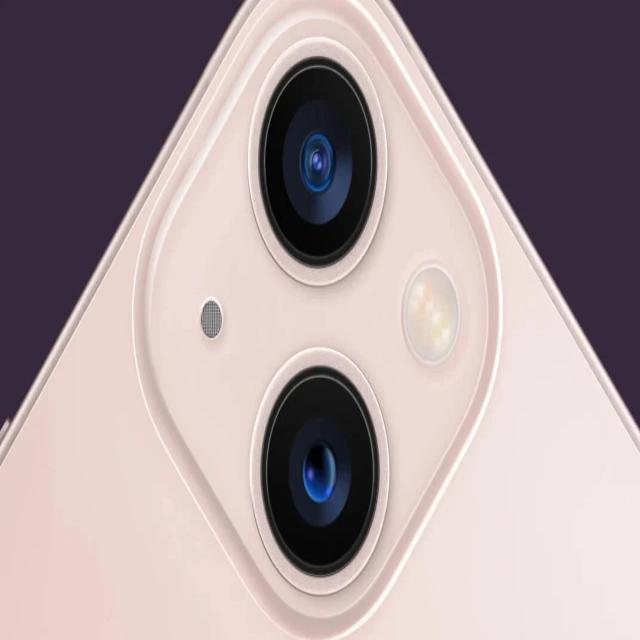hidden camera: (256, 49, 382, 272), (264, 368, 387, 577)
